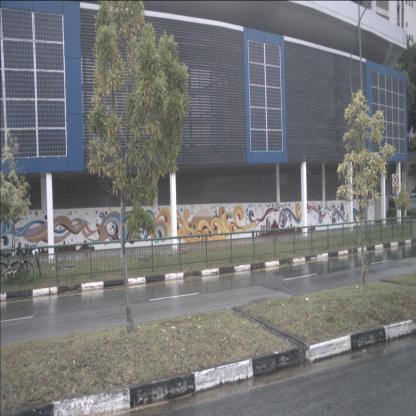vehicle-bicycle: (9, 240, 42, 282), (0, 245, 35, 284)
vehicle-car: (382, 193, 398, 207)
